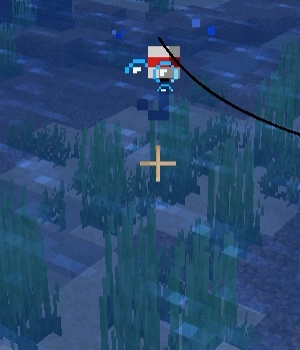up: (134, 43, 179, 122)
